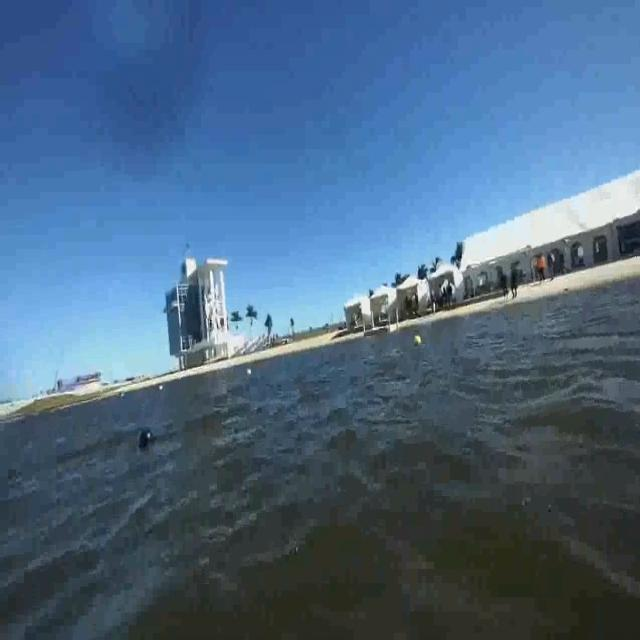black-buoy: (138, 426, 154, 449)
yellow-buoy: (413, 334, 424, 349)
